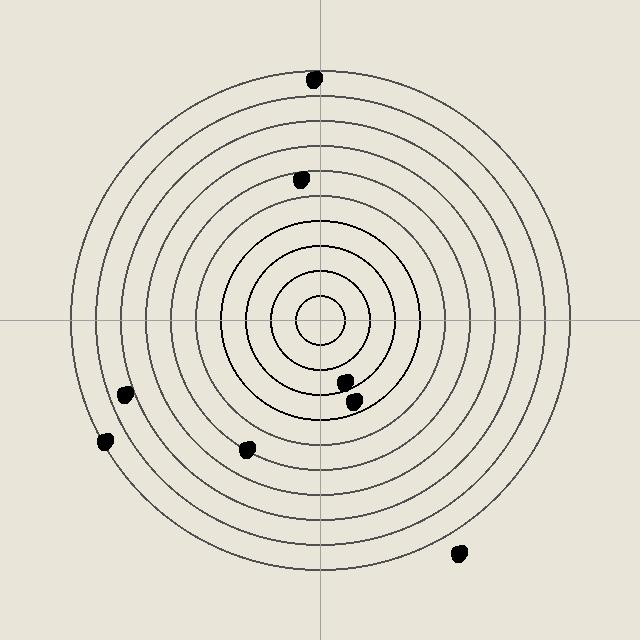random_scatter: (343, 391, 363, 411), (236, 439, 256, 459), (334, 372, 354, 392), (448, 543, 468, 563), (290, 169, 310, 189), (114, 384, 134, 404), (303, 69, 323, 89), (94, 431, 114, 451)
